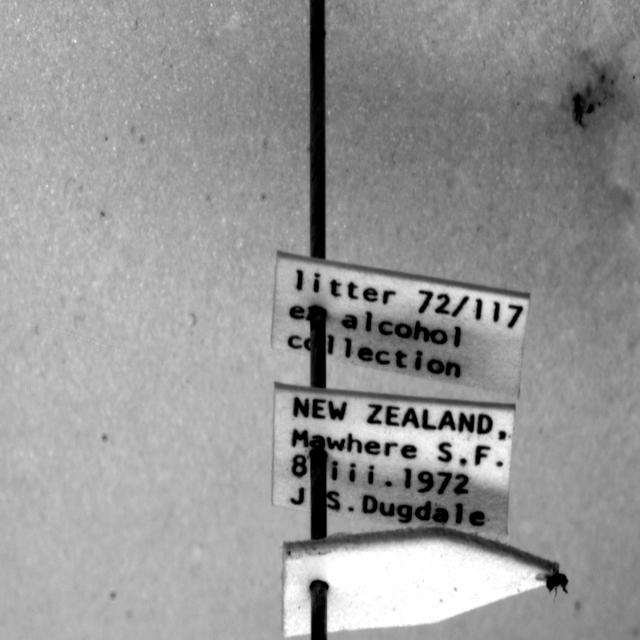typed_label: (271, 251, 529, 396), (272, 382, 515, 534)
